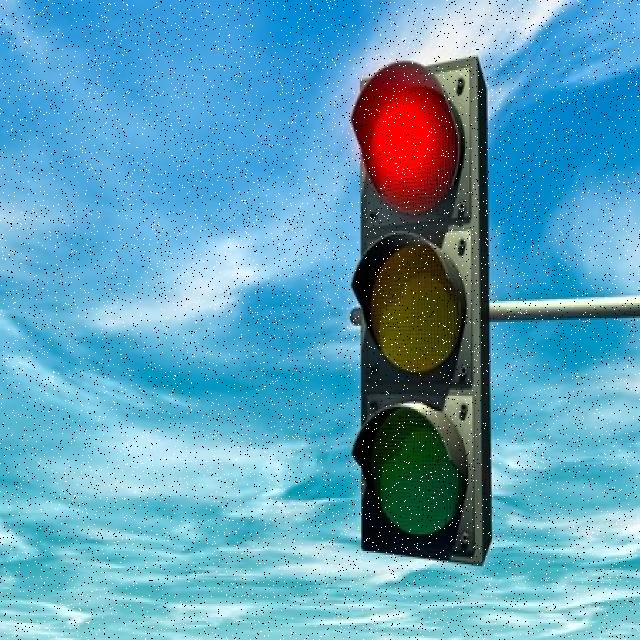red: (358, 82, 472, 548)
